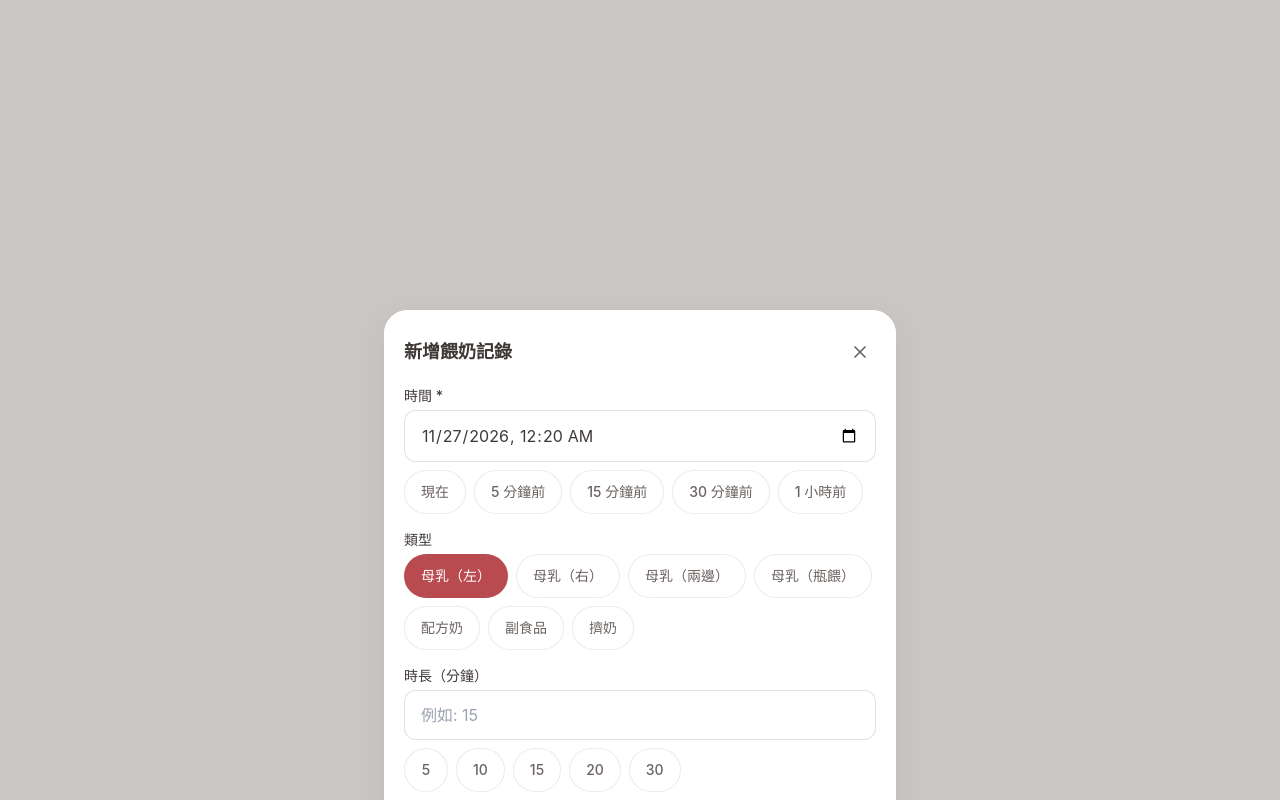
Test: 擠奶 › 選了擠奶之後，標題不再說這是一筆餵奶記錄
Expected: the heading "新增餵奶記錄" is shown, [404,340,512,364]
Click the radio button labelled "擠奶" at [603, 628], box [572,606,634,650]
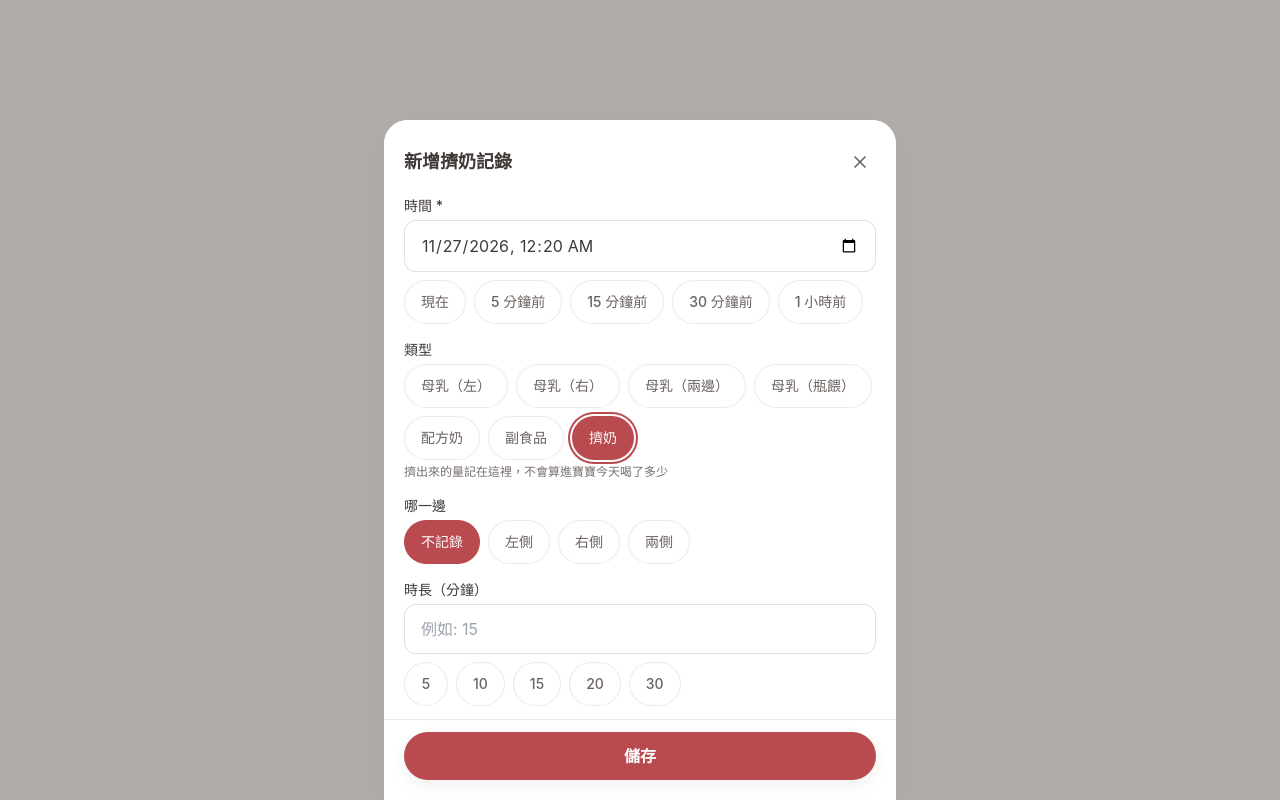
Expected: the heading "新增擠奶記錄" is shown, [404,150,512,174]
Expected: the heading "新增餵奶記錄" is gone
